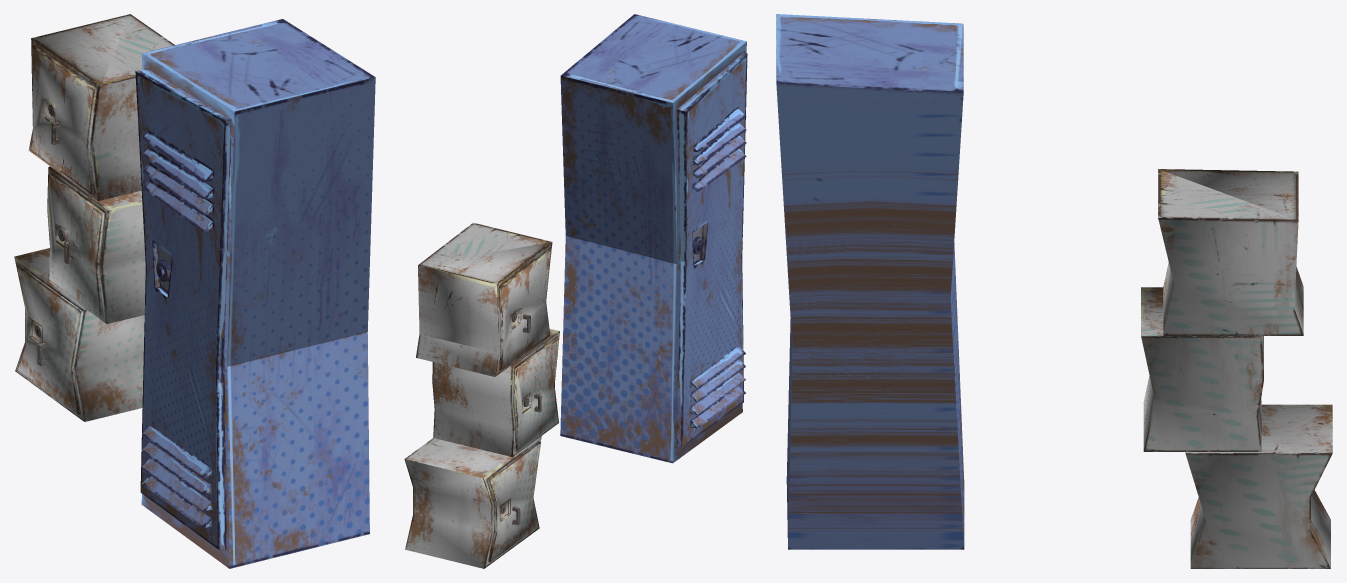
Rendered from LockersA_Rust.glb.
The picture shows the model from 3 angles, left to right: view 1: azimuth 30°, elevation 25°; view 2: azimuth 150°, elevation 25°; view 3: azimuth 270°, elevation 25°; orthographic projection. The views are drawn at different scales.
Visible parts, largest first — view 1: Cube.001, small locker top door; view 2: Cube.001, small locker top door; view 3: Cube.001, small locker top door.
Part boxes in pixels (x1,y1,x2,y2): Cube.001: (135, 19, 375, 568); small locker top door: (14, 14, 174, 421); Cube.001: (560, 14, 747, 463); small locker top door: (404, 222, 559, 568); Cube.001: (776, 14, 964, 549); small locker top door: (1141, 169, 1332, 568).
Bounding box in the file's own units: 1.43 × 3.82 × 4.02.
Materials: 2 (2 with a texture image).
